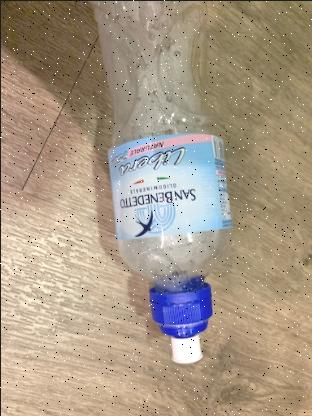Plastic Bottle: (85, 0, 233, 364)
